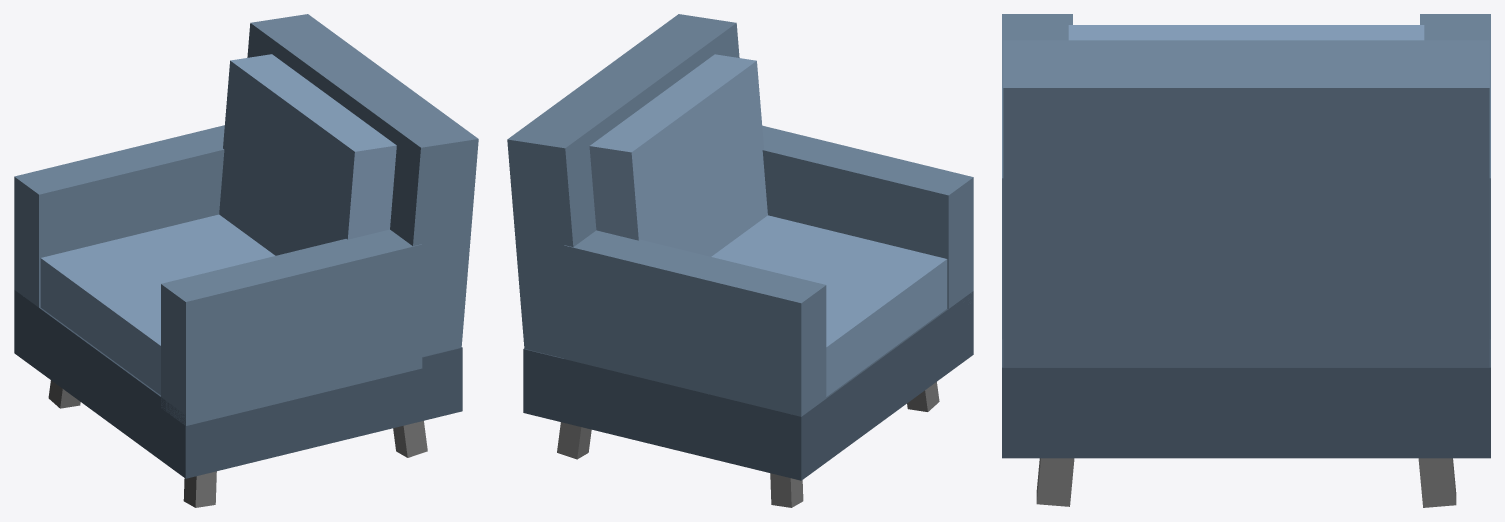
File: vegas-chair-4.glb
The picture shows the model from 3 angles, left to right: view 1: azimuth 30°, elevation 25°; view 2: azimuth 150°, elevation 25°; view 3: azimuth 270°, elevation 25°; orthographic projection. The views are drawn at different scales.
Visible parts, largest first — view 1: Roblox reference geometry; view 2: Roblox reference geometry; view 3: Roblox reference geometry.
Boxes of the visible parts, bbox=[...] form: Roblox reference geometry: bbox=[14, 14, 478, 507]; Roblox reference geometry: bbox=[507, 14, 973, 507]; Roblox reference geometry: bbox=[1002, 14, 1490, 507].
Bounding box in the file's own units: 4.13 × 4.31 × 4.18.
